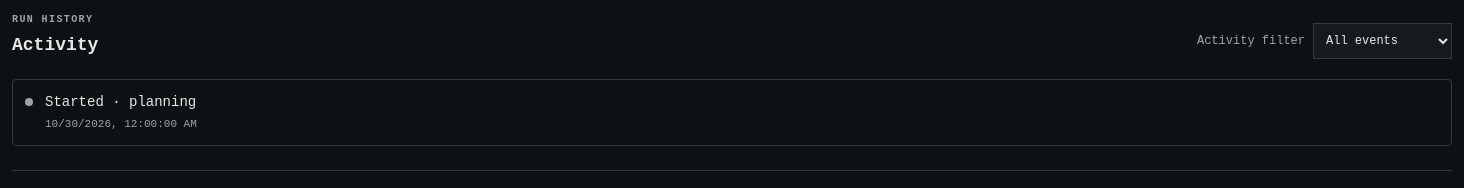
filters attempts while retaining new events and their order
Later steps or results of the test are not shown.
Select "Agent attempts" in the dropdown labelled "Activity filter" at (1382, 41), box x1=1313 y1=23 x2=1452 y2=59
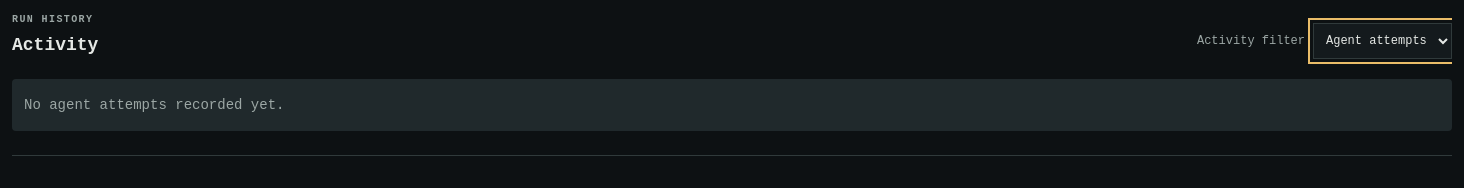
Check: the text "No agent attempts recorded yet." is shown, box x1=12 y1=79 x2=1452 y2=131
